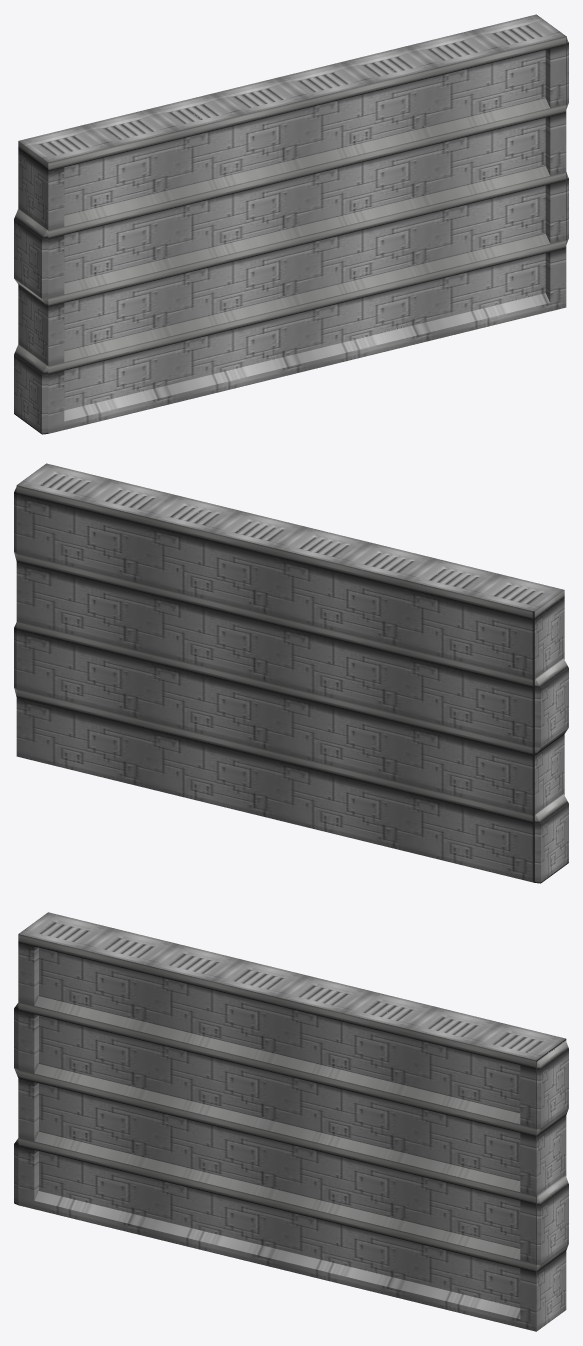
Rendered from metallic_wall04.fbx.
The picture shows the model from 3 angles, top to bottom: view 1: azimuth 30°, elevation 25°; view 2: azimuth 150°, elevation 25°; view 3: azimuth 330°, elevation 25°; orthographic projection.
Parts seen in each view (by area): view 1: Cube; view 2: Cube; view 3: Cube.
Part boxes in pixels (<box>): Cube: <box>14,14,568,434</box>; Cube: <box>14,463,568,883</box>; Cube: <box>14,912,568,1331</box>.
Bounding box in the file's own units: 4067 × 2000 × 400.
Materials: 1 (1 with a texture image).
